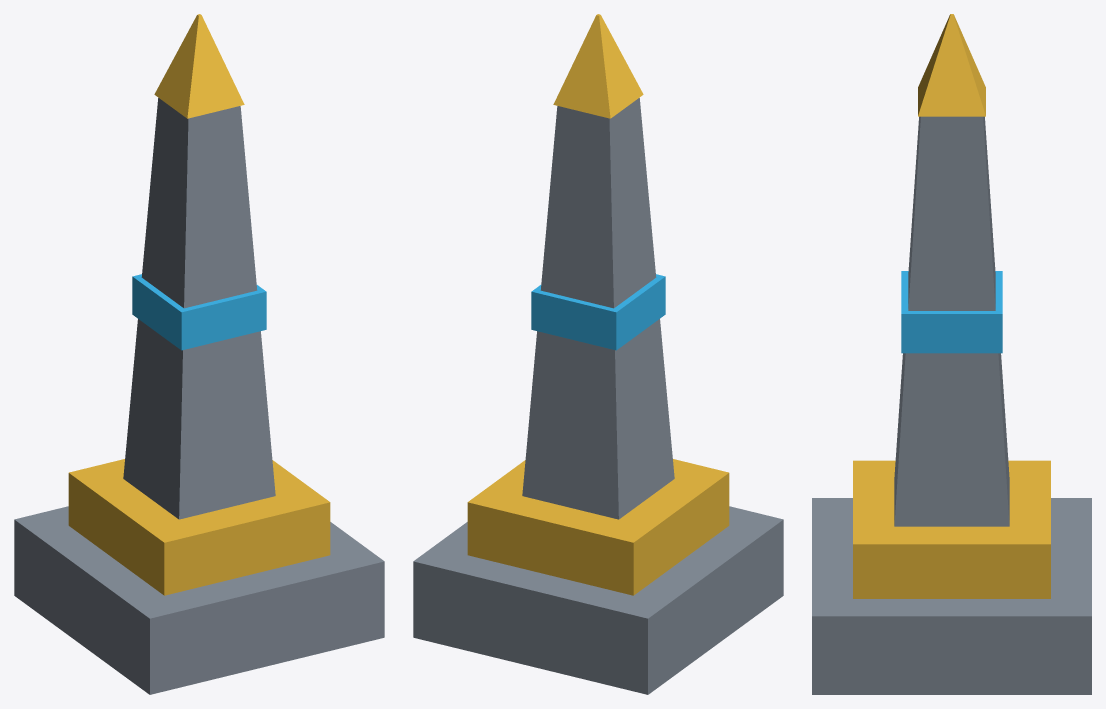
File: obelisk.glb
3 views of the same model, side by side, from view 1: azimuth 30°, elevation 25°; view 2: azimuth 150°, elevation 25°; view 3: azimuth 270°, elevation 25° (orthographic). The views are drawn at different scales.
Visible parts, largest first — view 1: obelisk; view 2: obelisk; view 3: obelisk.
Part boxes in pixels (x1,y1,x2,y2): obelisk: (14, 14, 384, 694); obelisk: (413, 14, 783, 694); obelisk: (812, 14, 1091, 694).
Bounding box in the file's own units: 1.16 × 2.84 × 1.16.
